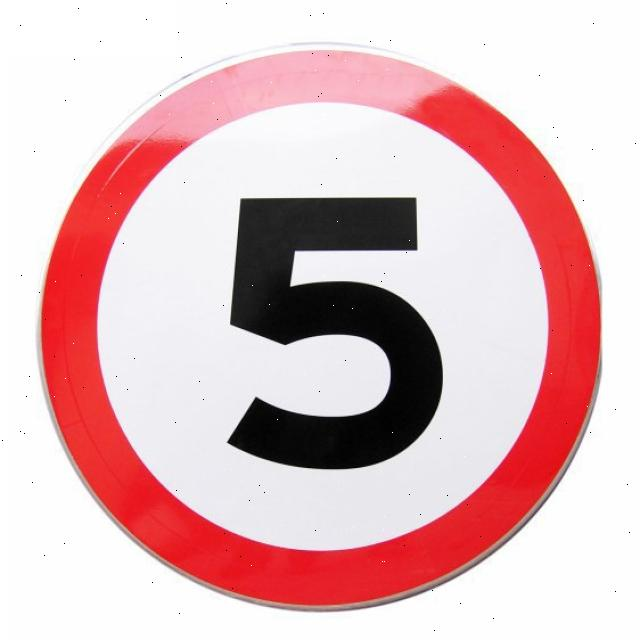speed limit 10: (34, 41, 604, 613)
